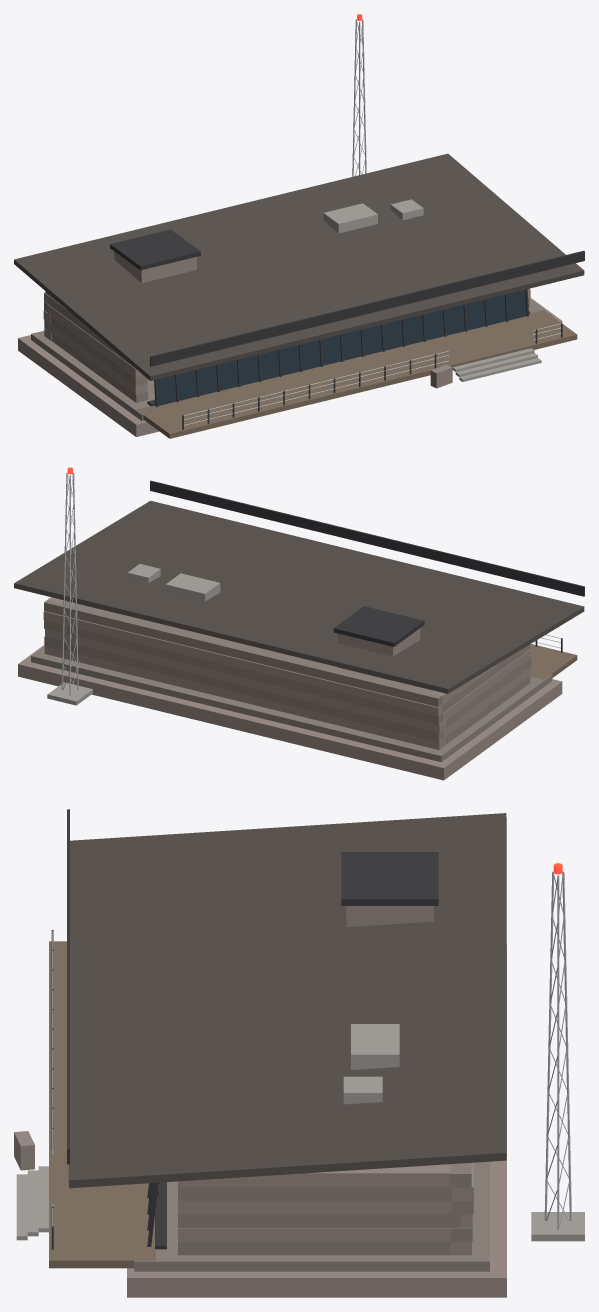
File: hill-summit.glb
3 renders of one model, top to bottom at view 1: azimuth 30°, elevation 25°; view 2: azimuth 150°, elevation 25°; view 3: azimuth 270°, elevation 25°, orthographic. The views are drawn at different scales.
Parts seen in each view (by area): view 1: SummitHouse; view 2: SummitHouse; view 3: SummitHouse.
Part boxes in pixels (bbox=[...]): SummitHouse: bbox=[14, 14, 584, 438]; SummitHouse: bbox=[14, 467, 584, 780]; SummitHouse: bbox=[14, 809, 584, 1297].
Bounding box in the file's own units: 33 × 17.18 × 23.43.
